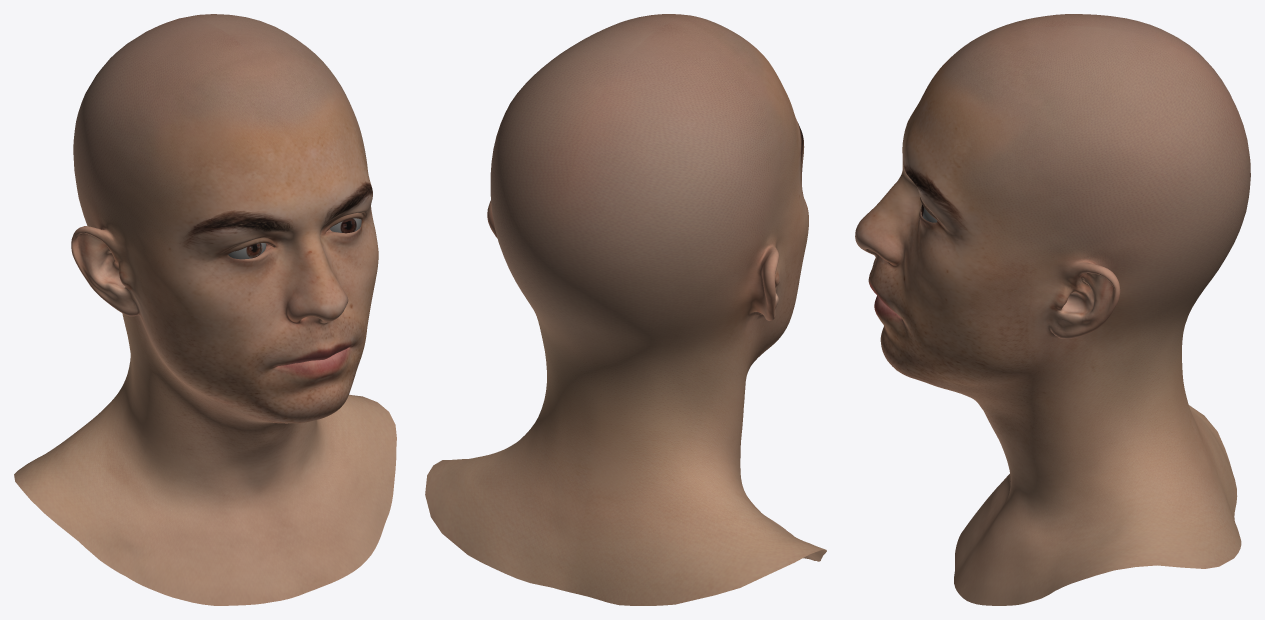
The picture shows the model from 3 angles, left to right: view 1: azimuth 30°, elevation 25°; view 2: azimuth 150°, elevation 25°; view 3: azimuth 270°, elevation 25°; orthographic projection. The views are drawn at different scales.
Visible parts, largest first — view 1: Registered head; view 2: Registered head; view 3: Registered head.
Boxes of the visible parts, <box> form: Registered head: <box>14,14,396,605</box>; Registered head: <box>425,14,826,605</box>; Registered head: <box>855,14,1250,605</box>.
Bounding box in the file's own units: 1.29 × 1.8 × 1.19.
Materials: 3 (3 with a texture image).
